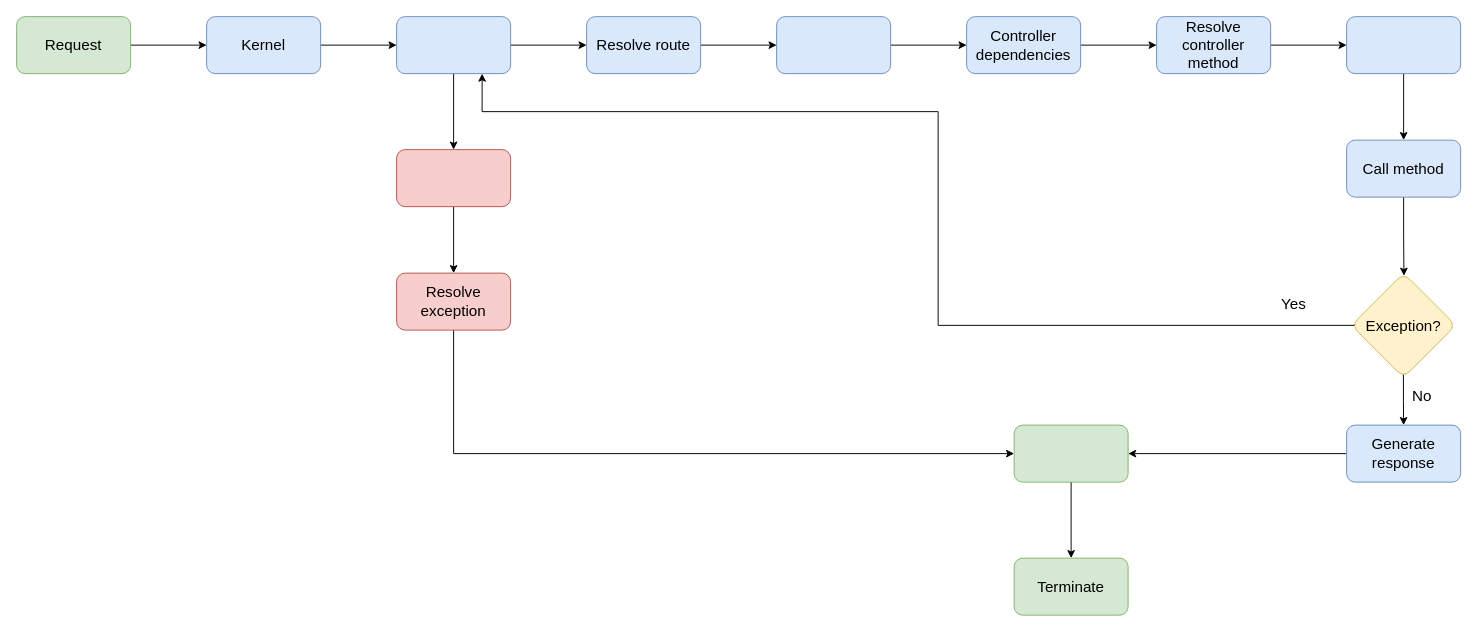
This 1477x632 diagram has some shape labels left out. Here are the shapes that lost their labels. From the top down, the centre of each, then its label:
the point at 453,45: Router
the point at 833,45: Resolve controller
the point at 1403,45: Resolve method dependencies
the point at 453,178: Exception handler
the point at 1070,453: Return response
